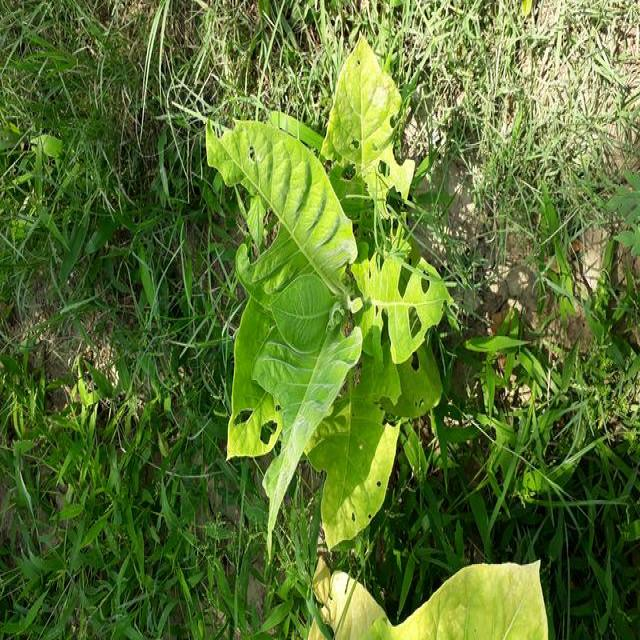crop: (218, 46, 450, 530), (318, 560, 552, 640)
